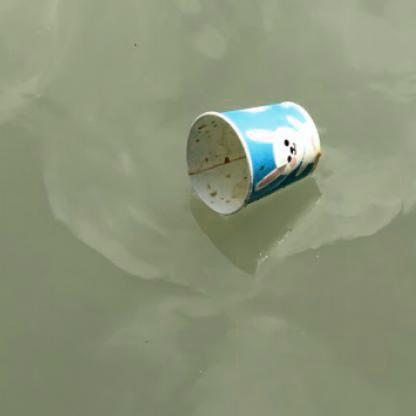Plastic: (184, 96, 323, 218)
